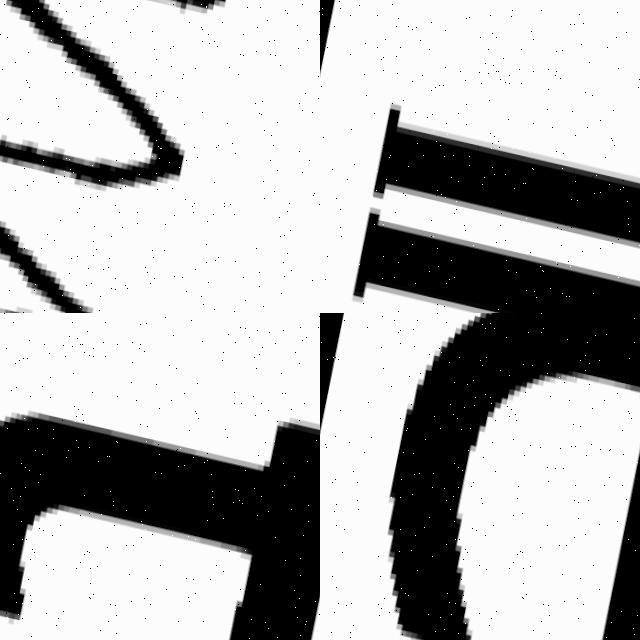E: (383, 313, 640, 640)
H: (365, 102, 640, 253), (348, 211, 640, 313)
M: (0, 0, 252, 313)
T: (0, 333, 320, 640)
